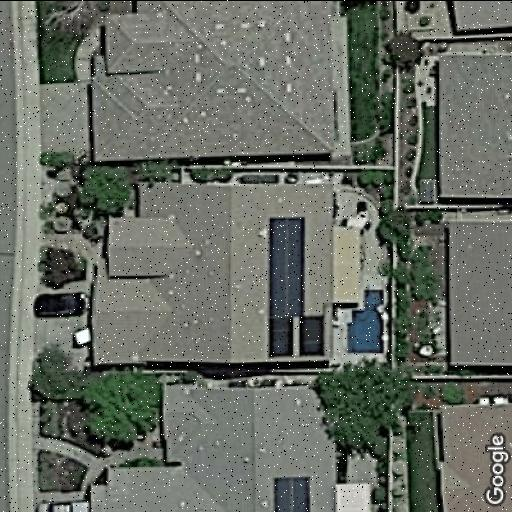solar-panel: (266, 213, 328, 357), (268, 472, 314, 512)
